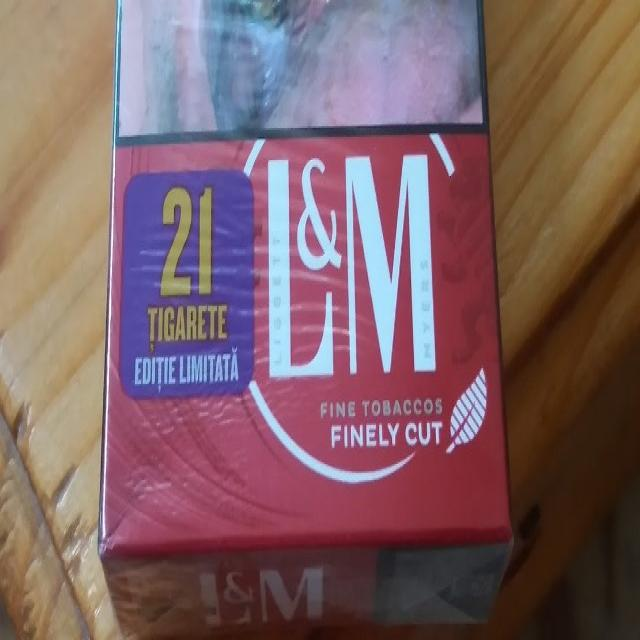lm: (108, 6, 513, 637)
